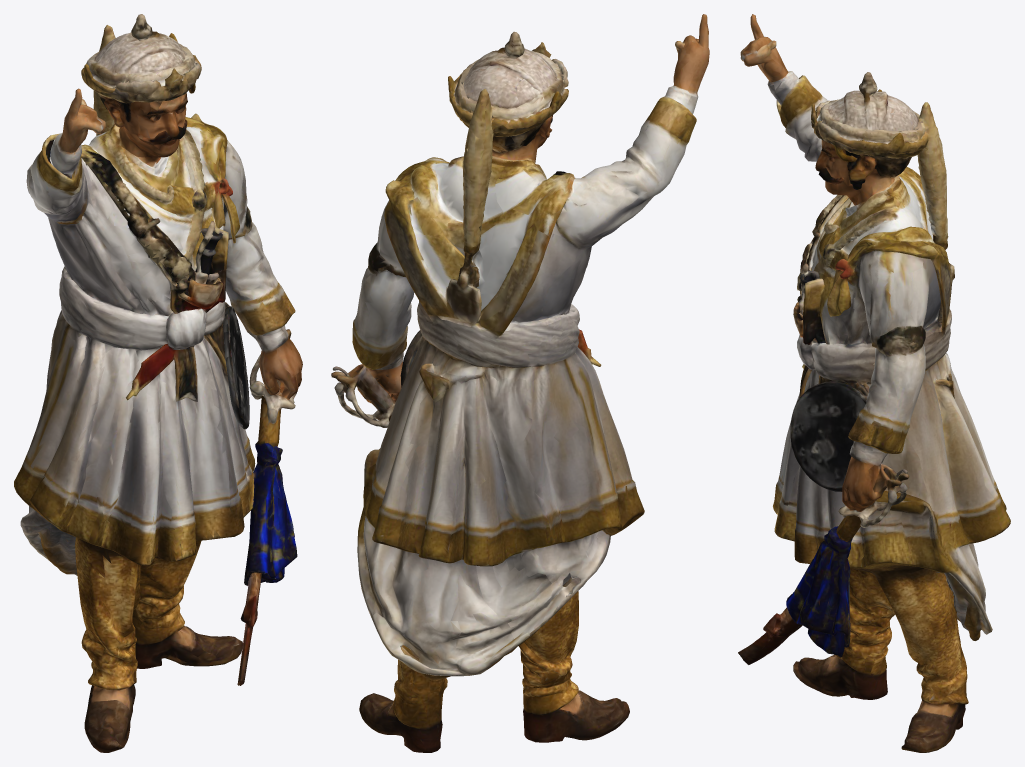
File: prithvi_narayan_shah_v2.glb
3 renders of one model, left to right at view 1: azimuth 30°, elevation 25°; view 2: azimuth 150°, elevation 25°; view 3: azimuth 270°, elevation 25°, orthographic. The views are drawn at different scales.
Visible parts, largest first — view 1: jama, suruwal, patuka, shripech, mala, jutta, tarwar, head, hands, khukuri, dhal; view 2: jama, shripech, patuka, suruwal, jutta, hands, head, tarwar; view 3: jama, suruwal, tarwar, shripech, jutta, patuka, dhal, head, hands, mala, khukuri.
Part boxes in pixels (left/top/right/bottom): jama: left=14, top=113, right=295, bottom=575; suruwal: left=35, top=521, right=265, bottom=687; patuka: left=57, top=272, right=232, bottom=400; shripech: left=81, top=14, right=201, bottom=135; mala: left=111, top=150, right=207, bottom=287; jutta: left=84, top=618, right=242, bottom=752; tarwar: left=237, top=329, right=301, bottom=685; head: left=91, top=88, right=187, bottom=157; hands: left=46, top=88, right=302, bottom=391; khukuri: left=179, top=221, right=228, bottom=311; dhal: left=209, top=332, right=249, bottom=441; jama: left=352, top=94, right=698, bottom=712; shripech: left=448, top=31, right=568, bottom=303; patuka: left=417, top=298, right=601, bottom=387; suruwal: left=439, top=561, right=578, bottom=707; jutta: left=359, top=682, right=629, bottom=752; hands: left=332, top=14, right=709, bottom=411; head: left=455, top=112, right=552, bottom=184; tarwar: left=331, top=371, right=397, bottom=468; jama: left=767, top=76, right=1010, bottom=696; suruwal: left=763, top=513, right=951, bottom=700; tarwar: left=738, top=480, right=935, bottom=664; shripech: left=811, top=72, right=954, bottom=286; jutta: left=793, top=652, right=968, bottom=752; patuka: left=797, top=317, right=951, bottom=397; dhal: left=790, top=392, right=856, bottom=491; head: left=815, top=140, right=925, bottom=209; hands: left=740, top=14, right=909, bottom=504; mala: left=797, top=195, right=858, bottom=296; khukuri: left=793, top=261, right=830, bottom=344.
Size of the model in its own units: 0.8124 by 1.8 by 0.6921.
11 materials, 11 textured.
